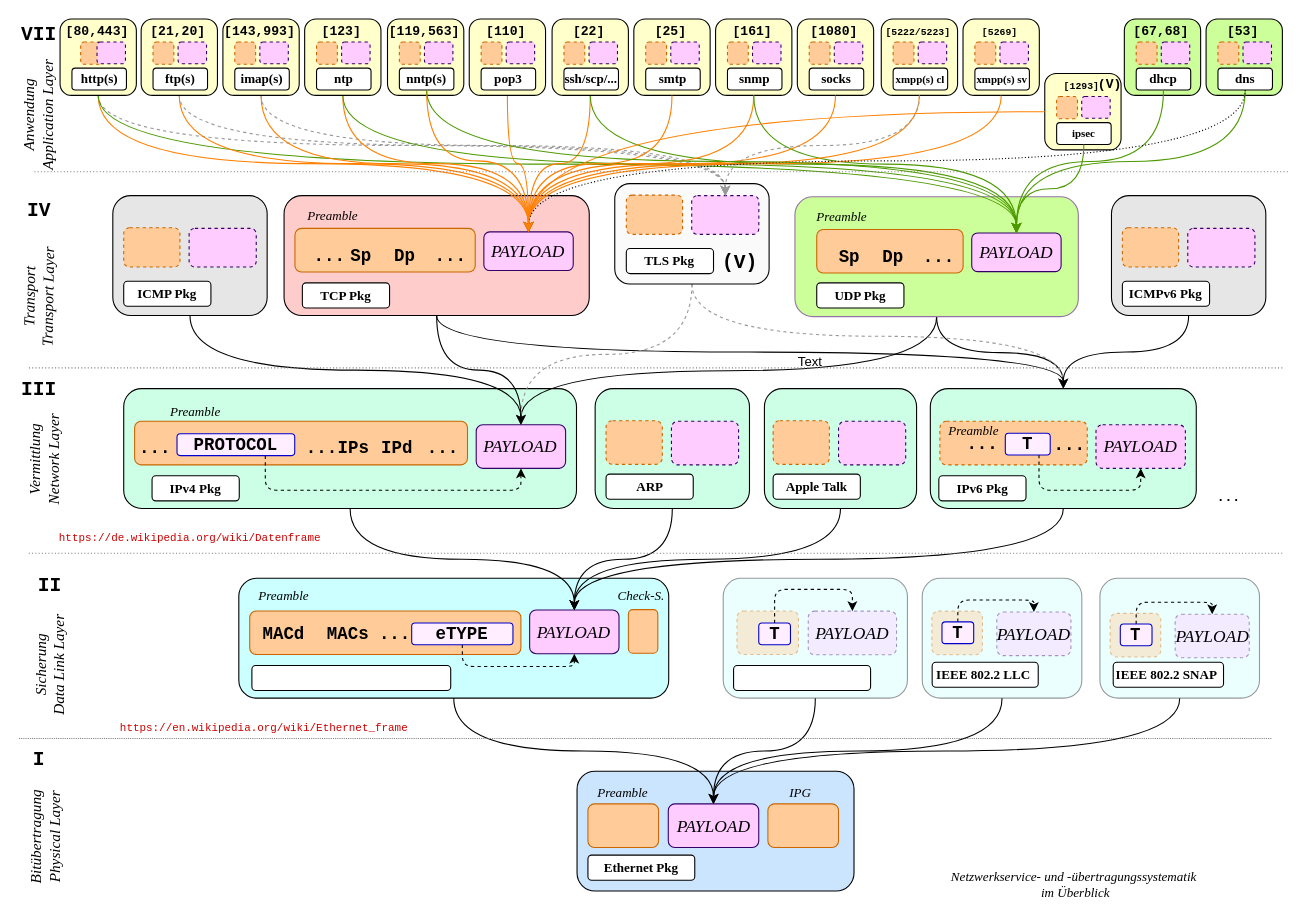
The diagram is 1309 pixels wide and 919 high, and some of its shapes have lost their labels. The shapes that lost their labels are listed below. From the top down, each one's box as (x1, y1, x2, y2) in pixels, then its label:
(251, 664, 451, 691): Ethernet Typ II Frame
(732, 664, 871, 691): Novel IEEE Raw 802.3
